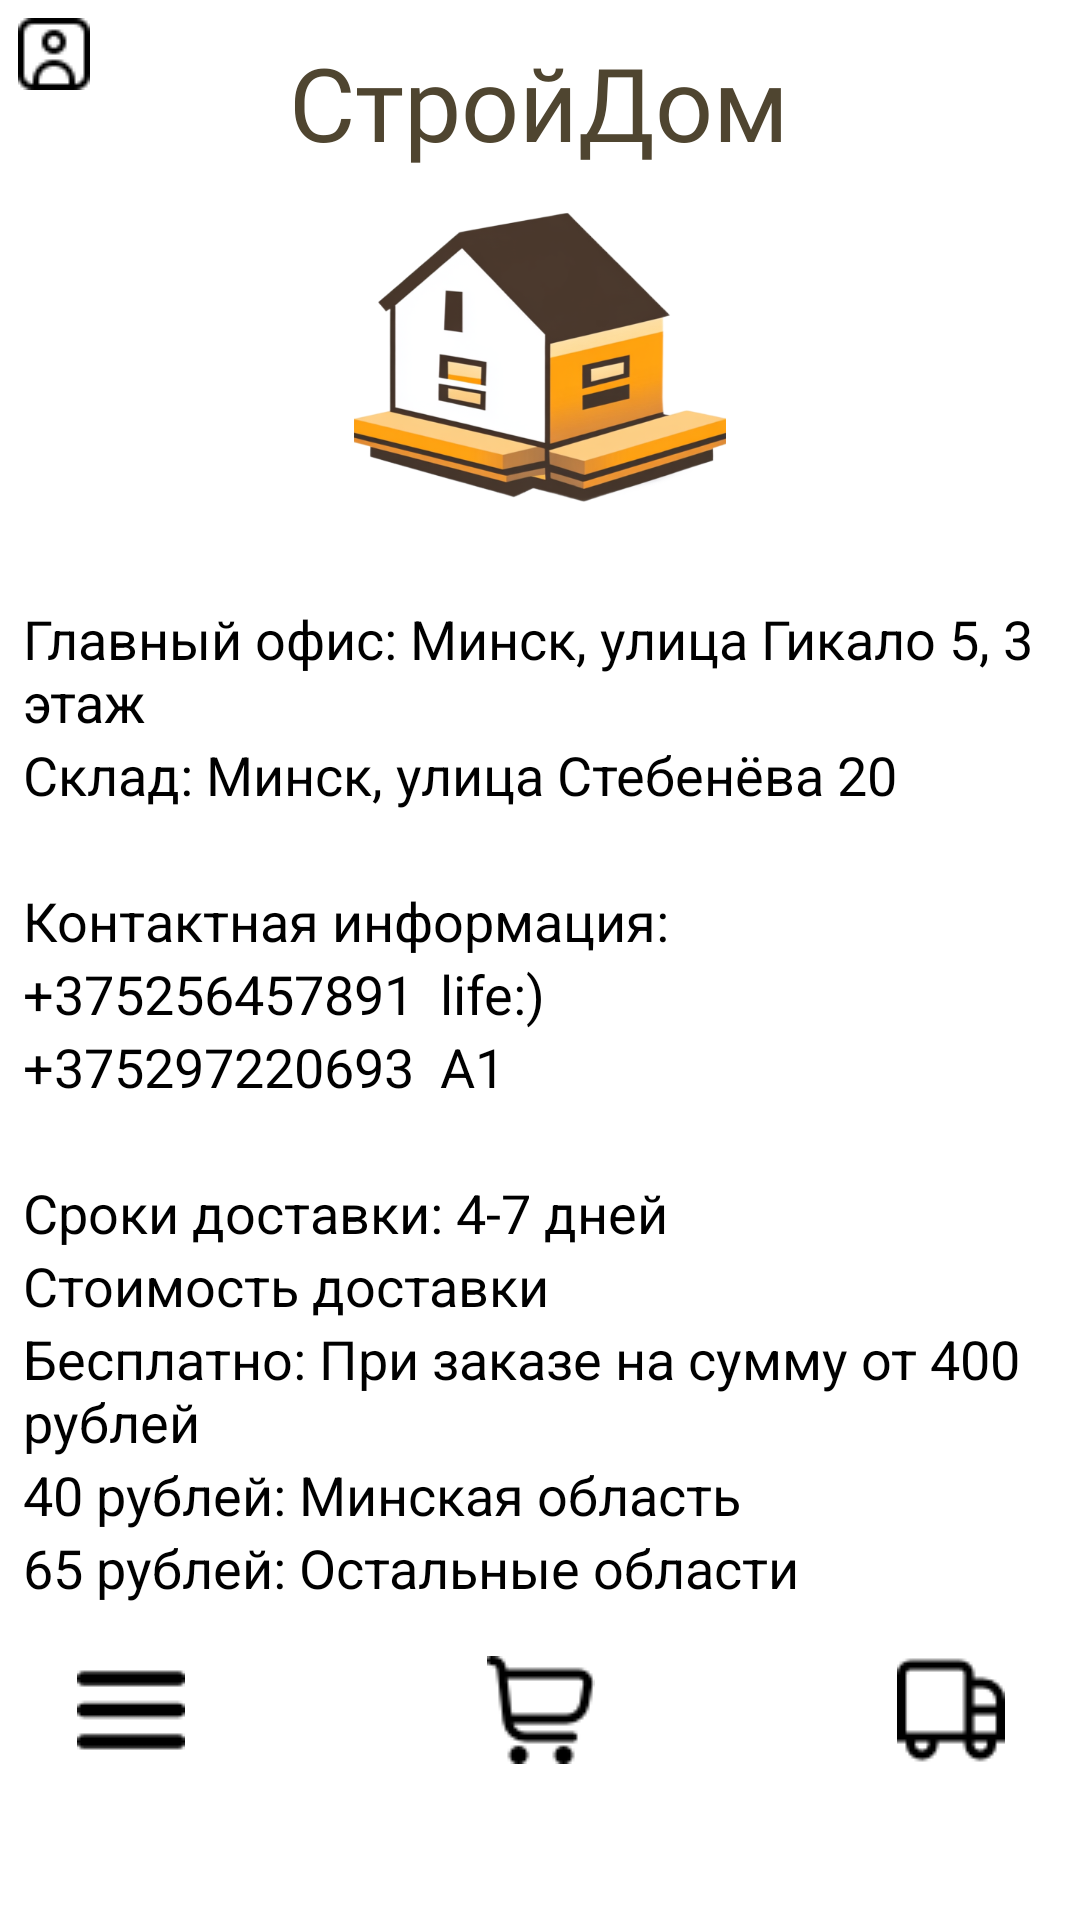

Where to tap for icons on this 1080px×1920px app screen, as (x=x, y=y):
portrait: (x=54, y=54)
shopping cart: (x=541, y=1710)
